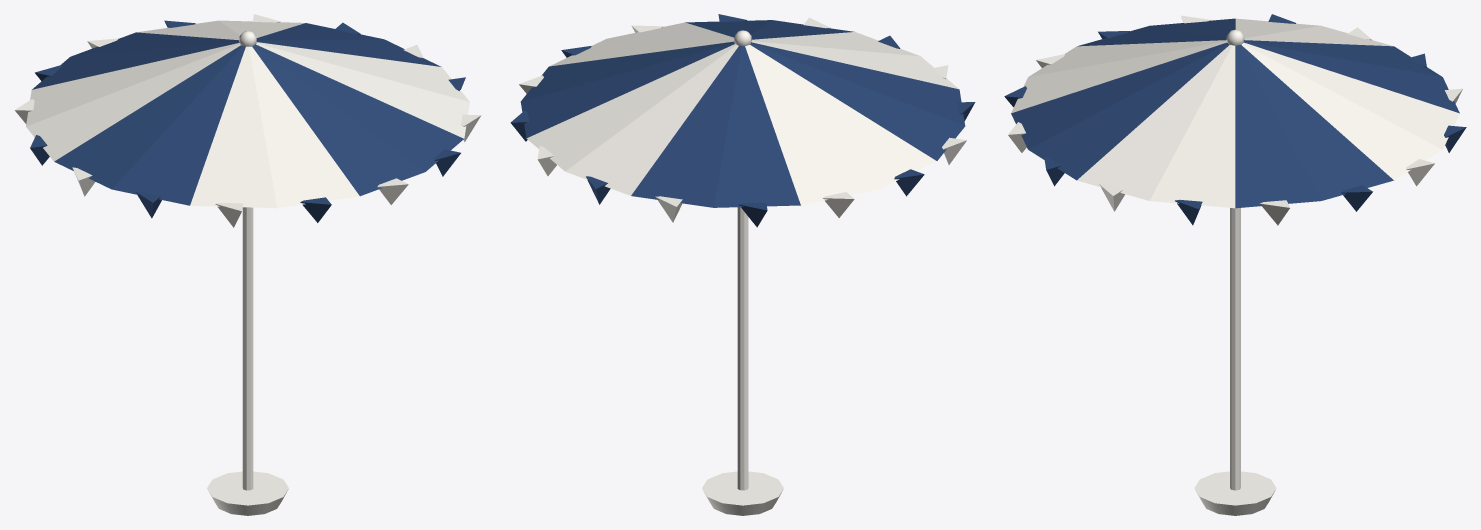
File: b_parasol_navy.gltf
3 views of the same model, side by side, from view 1: azimuth 30°, elevation 25°; view 2: azimuth 150°, elevation 25°; view 3: azimuth 270°, elevation 25° (orthographic).
Parts seen in each view (by area): view 1: b_parasol_navy; view 2: b_parasol_navy; view 3: b_parasol_navy.
Boxes of the visible parts, x1=… form: b_parasol_navy: x1=14, y1=14, x2=481, y2=515; b_parasol_navy: x1=510, y1=14, x2=975, y2=515; b_parasol_navy: x1=1004, y1=14, x2=1466, y2=515.
Size of the model in its own units: 2.47 by 2.78 by 2.47.
Materials: 1 (1 with a texture image).
